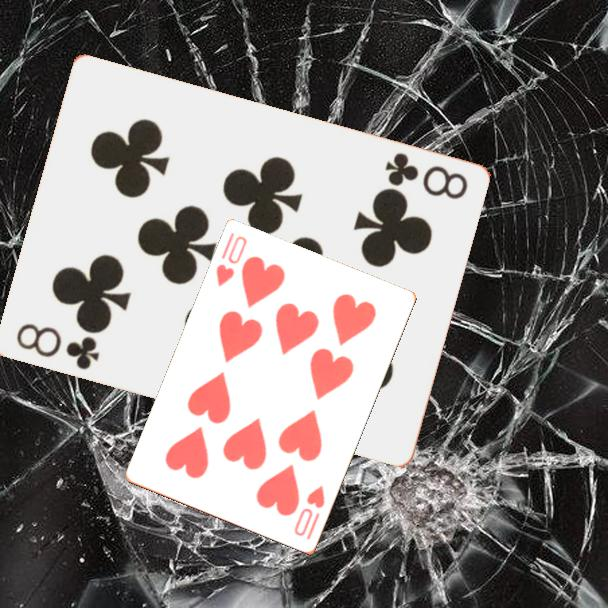c08: (380, 149, 470, 203), (12, 320, 102, 373)
h10: (291, 482, 328, 543), (213, 229, 250, 290)
